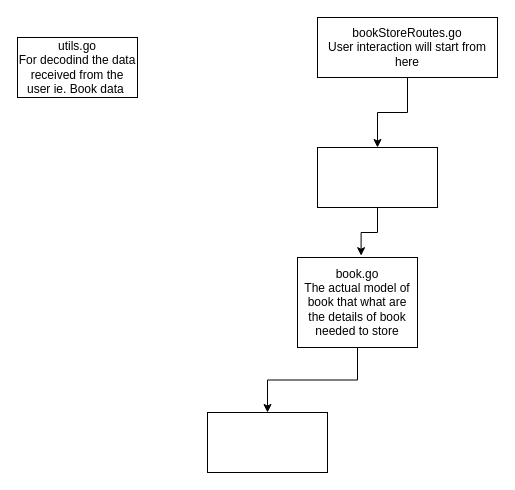
Image size: 515x490. Some labels were removed from this diagram. Here are the shapes that lost their labels. From the top down, the centre of each, then its label:
At point 377,177: "bookController.go serveral function for interacting with bookModel".
At point 267,442: "app.go functions for initialization of database".
